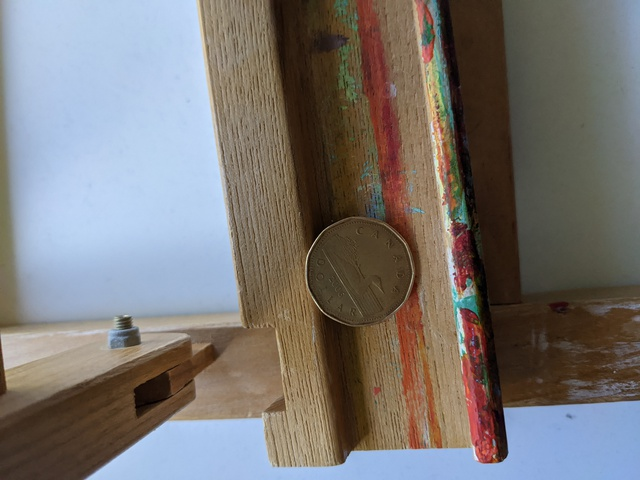loonie: (302, 213, 420, 325)
